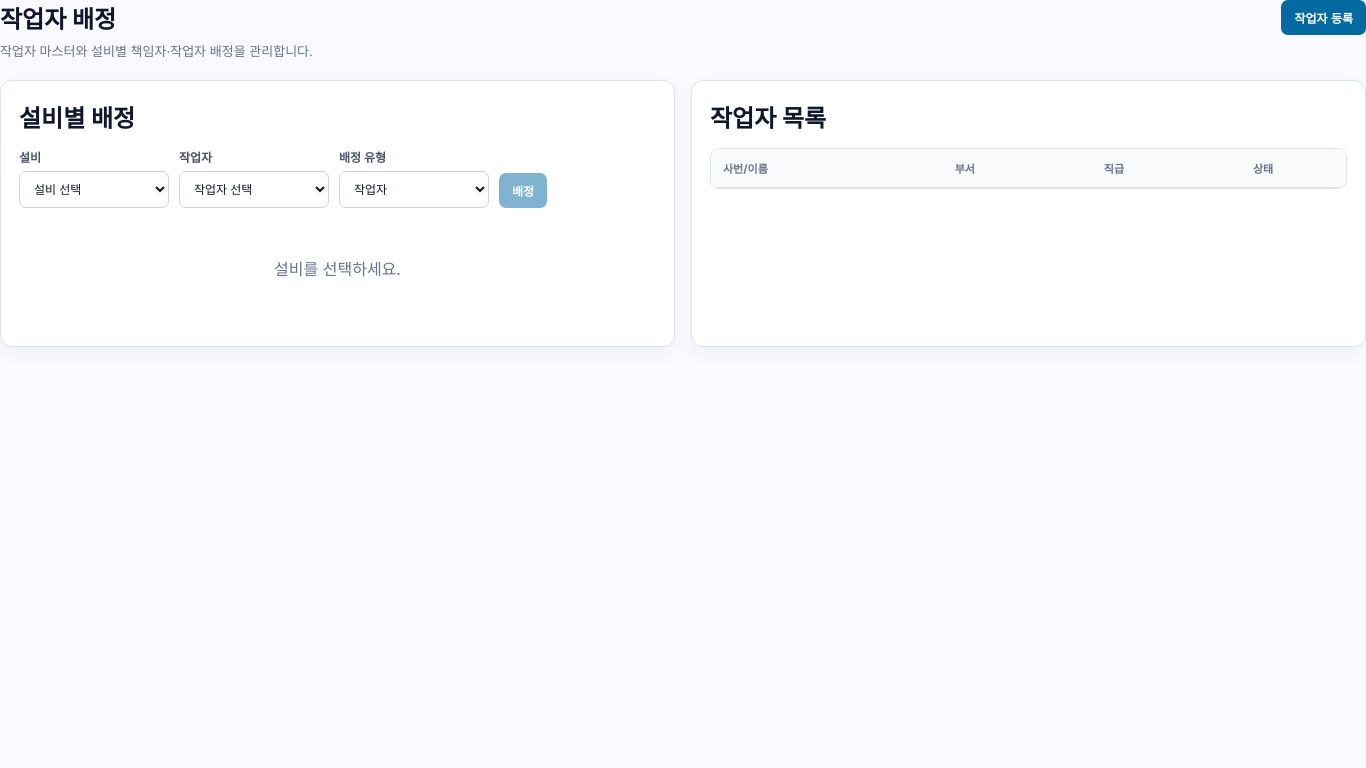
Scenario: 작업자 등록은 부서와 직급을 필수로 입력한다
Click the button "작업자 등록". click: coordinates (1324, 18)
box: top-left (1282, 0), bottom-right (1365, 35)
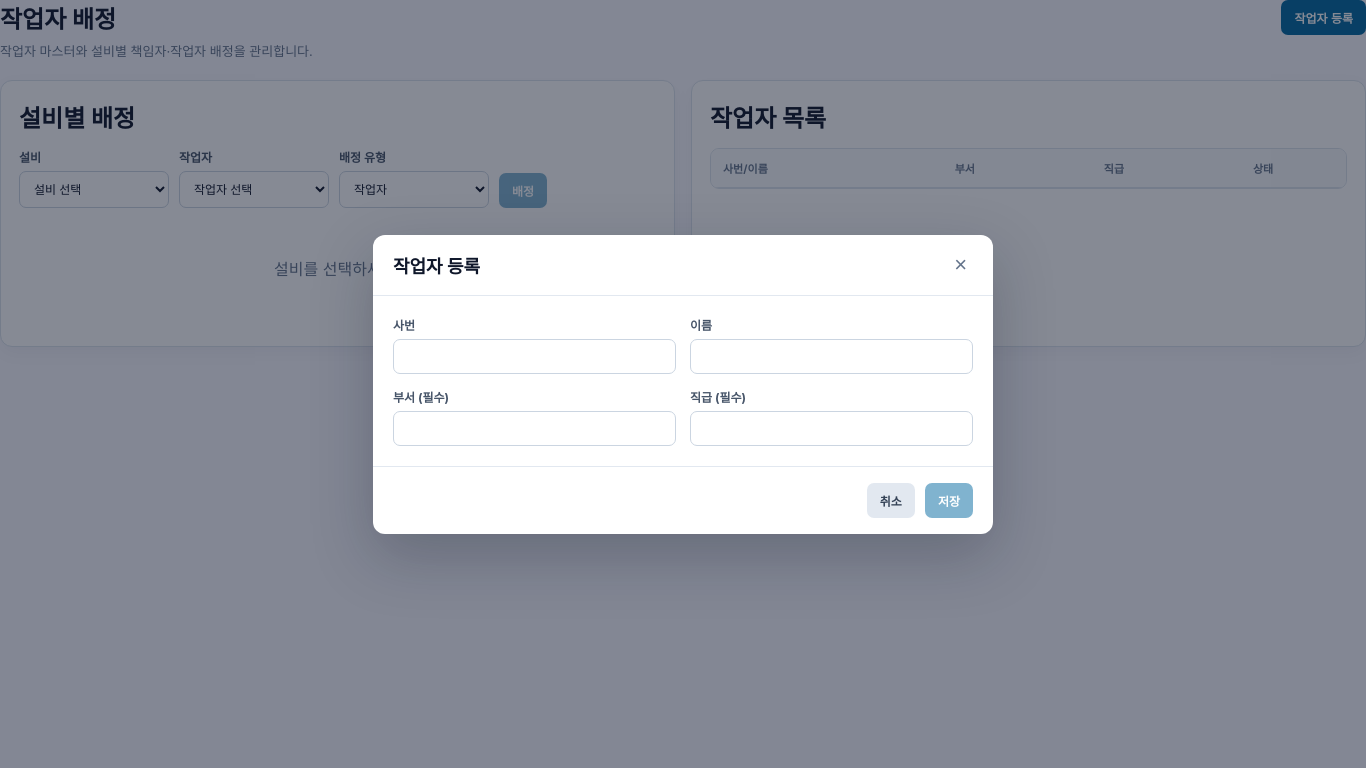
Expected: the field labelled "부서 (필수)" is shown, top-left (393, 410), bottom-right (676, 446)
Expected: the field labelled "직급 (필수)" is shown, top-left (690, 410), bottom-right (973, 446)
Expected: the button "저장" is disabled, top-left (925, 482), bottom-right (973, 518)
